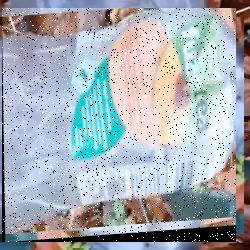plastic: (2, 8, 236, 242)
